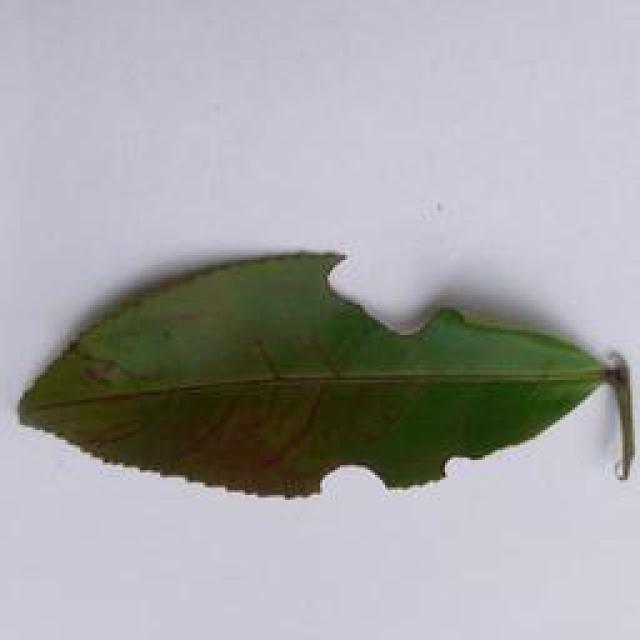Red Leaf Spot: (10, 235, 640, 523)
